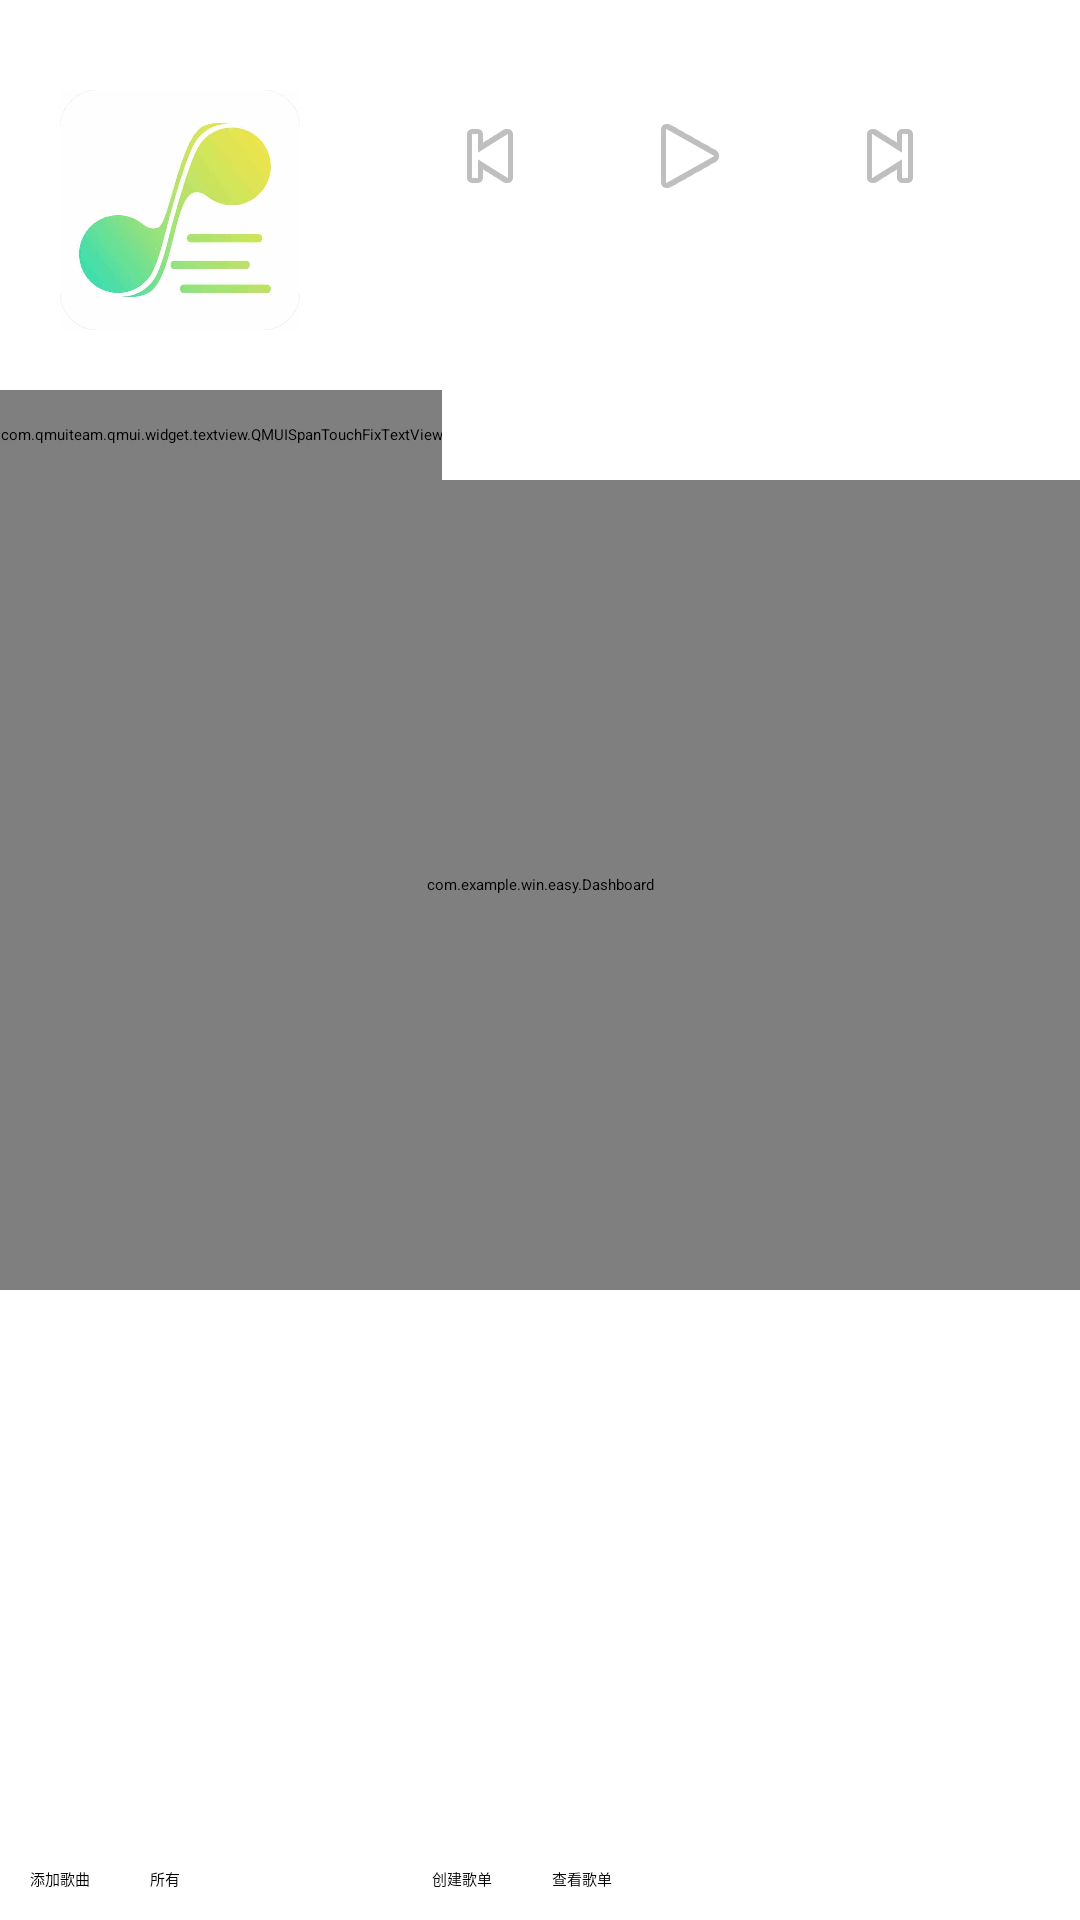

Icon bounding boxes for this 1080w x 1920h phone screenshot, format (x1, y1, x2, y2):
next: (867, 129, 913, 183)
play: (661, 124, 719, 188)
previous: (467, 129, 513, 183)
